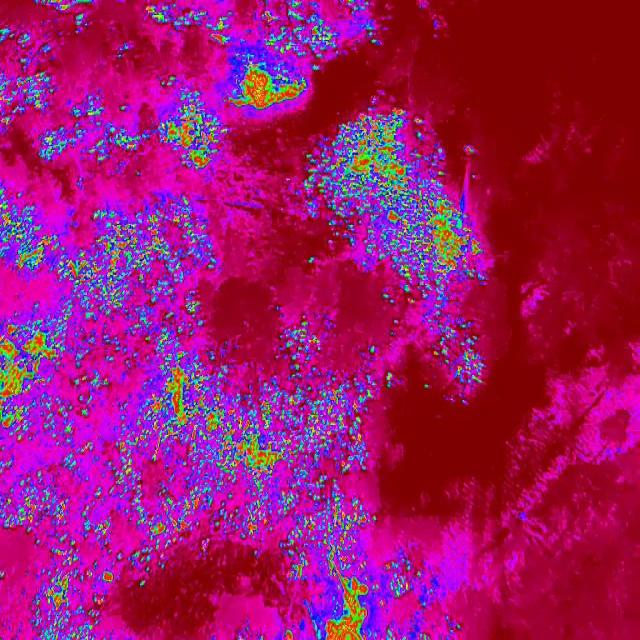fire: (302, 103, 488, 311), (0, 462, 216, 549), (124, 368, 321, 462), (0, 312, 111, 462), (53, 198, 213, 284), (65, 282, 204, 367), (316, 343, 394, 476), (254, 0, 390, 72), (37, 92, 151, 168), (289, 458, 375, 554), (416, 312, 498, 408), (154, 70, 232, 170), (32, 547, 115, 640), (217, 462, 294, 546), (225, 59, 311, 120), (0, 184, 52, 281), (316, 554, 374, 640), (141, 0, 241, 48), (0, 70, 54, 134), (274, 316, 322, 366), (378, 556, 424, 606), (36, 0, 94, 30), (126, 550, 160, 590), (278, 546, 313, 582), (0, 22, 35, 54), (388, 629, 430, 640), (280, 627, 296, 640)
